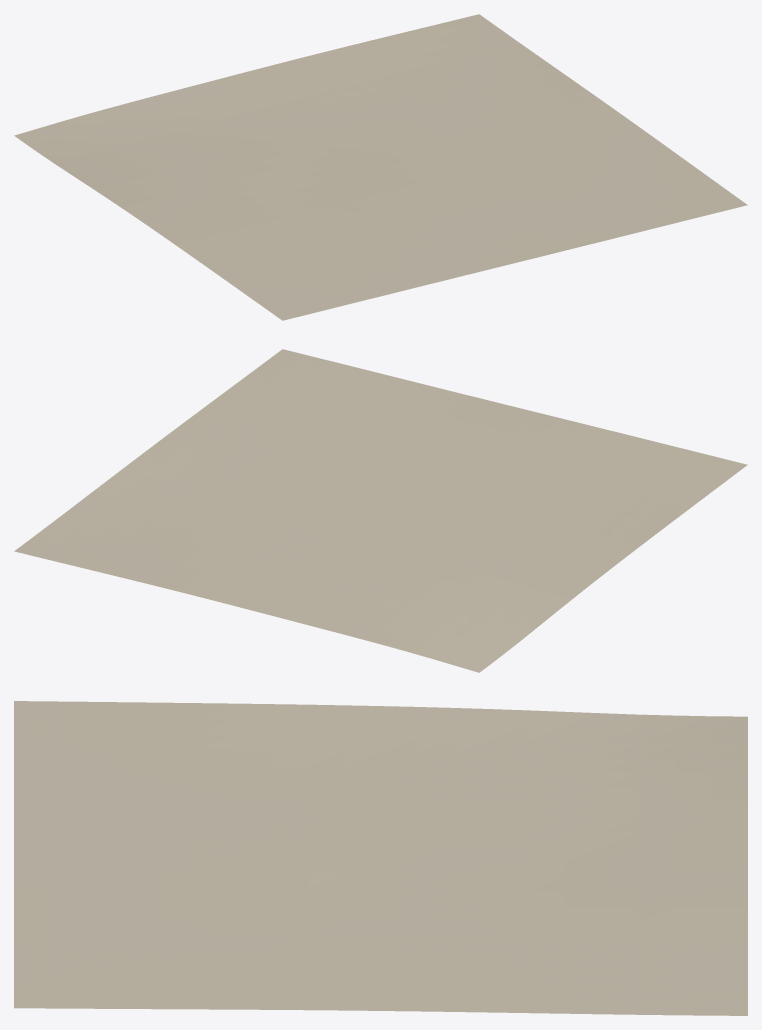
File: bolak_-34_5.glb
3 renders of one model, top to bottom at view 1: azimuth 30°, elevation 25°; view 2: azimuth 150°, elevation 25°; view 3: azimuth 270°, elevation 25°, orthographic. The views are drawn at different scales.
Parts seen in each view (by area): view 1: Yer_Tuproq-col; view 2: Yer_Tuproq-col; view 3: Yer_Tuproq-col.
Boxes of the visible parts, box(x1,y1,x2,y2) form: Yer_Tuproq-col: box(14, 14, 747, 320); Yer_Tuproq-col: box(14, 349, 747, 672); Yer_Tuproq-col: box(14, 701, 747, 1015).
Size of the model in its own units: 400 by 11.17 by 400.
